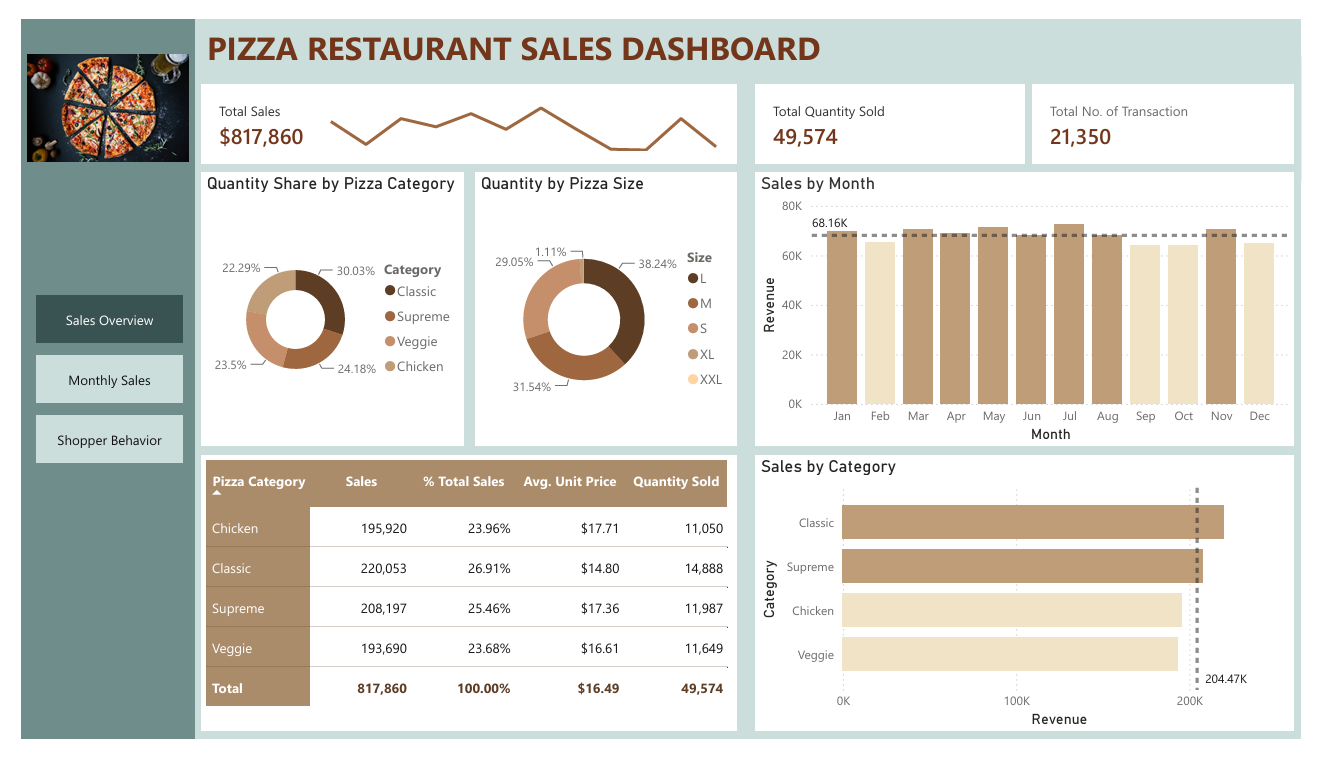

This screenshot's page, from the dashboard's own definition file:
{"tool":"powerbi","page":{"name":"Sales Overview","canvas":[1280,720],"ordinal":0},"visuals":[{"type":"shape","box":[0,0,174.1,719.8],"z":0},{"type":"textbox","box":[180,0,1100,65],"z":1000},{"type":"cardVisual","fields":{"Data":["Sum(pizza_sales.total_price)"]},"box":[179.9,65.2,535.9,79.8],"z":2000},{"type":"cardVisual","fields":{"Data":["Sum(pizza_sales.quantity)"]},"box":[734.3,65.2,269.4,79.8],"z":3000},{"type":"columnChart","title":"Sales by Month","fields":{"Category":["pizza_sales.Month"],"Y":["Sum(pizza_sales.total_price)"]},"box":[734.3,152.7,538.8,274.3],"z":4000},{"type":"clusteredBarChart","title":"Sales by Category","fields":{"Category":["pizza_sales.pizza_category"],"Y":["Sum(pizza_sales.total_price)"]},"box":[734.3,435.7,538.8,276.2],"z":5000},{"type":"donutChart","title":"Quantity Share by Pizza Category","fields":{"Category":["pizza_sales.pizza_category"],"Y":["Sum(pizza_sales.quantity)"]},"box":[179.9,152.7,262.6,274.3],"z":6000},{"type":"donutChart","title":"Quantity by Pizza Size","fields":{"Category":["pizza_sales.pizza_size"],"Y":["Sum(pizza_sales.quantity)"]},"box":[454.2,152.7,261.6,274.3],"z":7000},{"type":"pivotTable","fields":{"Rows":["pizza_sales.pizza_category"],"Values":["Sum(pizza_sales.total_price)","Divide(Sum(pizza_sales.total_price), ScopedEval(Sum(pizza_sales.total_price), [Role.Columns]))","Avg(pizza_sales.unit_price)","Sum(pizza_sales.quantity)"]},"box":[179.9,435.7,535.9,276.2],"z":8000},{"type":"lineChart","fields":{"Category":["pizza_sales.Month"],"Y":["Sum(pizza_sales.total_price)"]},"box":[289.8,73.9,423.1,62.2],"z":9000},{"type":"image","box":[5.8,33.1,162.4,111.9],"z":10000},{"type":"cardVisual","fields":{"Data":["Count(pizza_sales.order_id)"]},"box":[1010.6,65.2,262.6,79.8],"z":11000},{"type":"pageNavigator","box":[12.6,274.3,149.8,171.2],"z":12000}]}

Visuals, with their boxes in screenshot pixels (x1, y1, x2, y2), scaled from the page's 1280x720 canvas onto the 1322x759 screenshot:
shape: 0,0,180,758
textbox: 186,0,1321,69
cardVisual - Sum(pizza_sales.total_price): 186,69,739,153
cardVisual - Sum(pizza_sales.quantity): 758,69,1037,153
"Sales by Month" columnChart: 758,161,1315,450
"Sales by Category" clusteredBarChart: 758,459,1315,750
"Quantity Share by Pizza Category" donutChart: 186,161,457,450
"Quantity by Pizza Size" donutChart: 469,161,739,450
pivotTable - pizza_sales.pizza_category x Sum(pizza_sales.total_price): 186,459,739,750
lineChart - pizza_sales.Month x Sum(pizza_sales.total_price): 299,78,736,143
image: 6,35,174,153
cardVisual - Count(pizza_sales.order_id): 1044,69,1315,153
pageNavigator: 13,289,168,470
